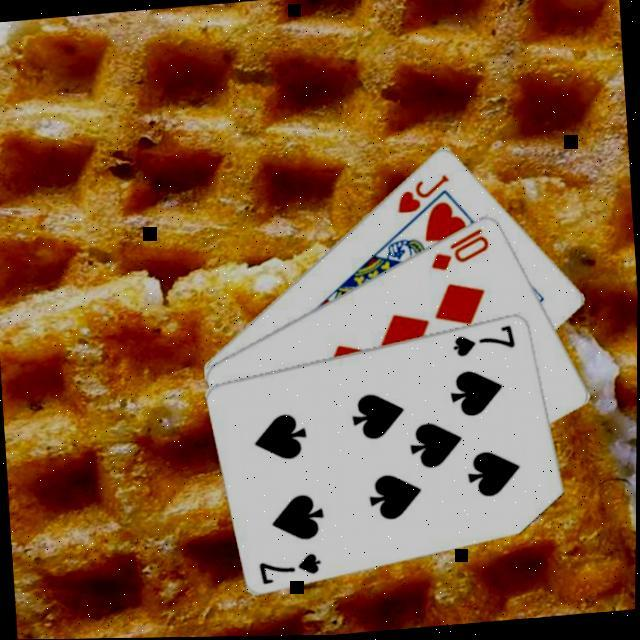10D: (425, 223, 492, 274)
7S: (448, 321, 518, 360), (255, 548, 325, 587)
JH: (391, 170, 454, 217)
